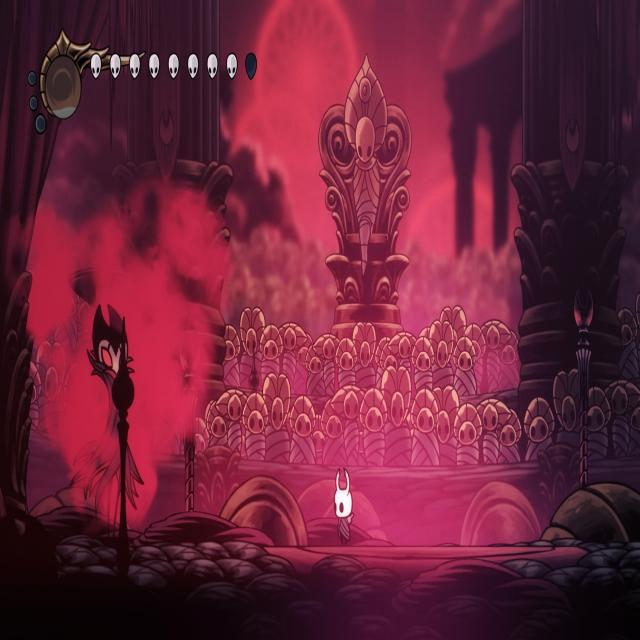Grimm: (68, 301, 146, 540)
Player: (332, 462, 357, 547)
